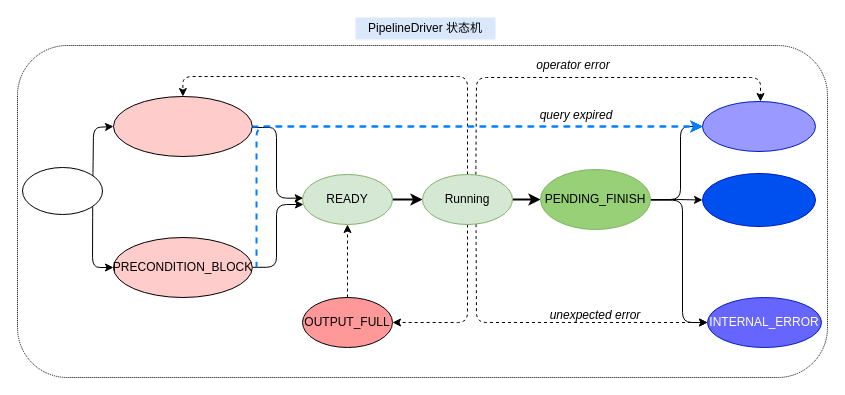
Some shapes in this 845 by 395 pixel diagram are drawn without their labels. Here are the shapes that lost their labels. From the top down, the box of each, then its label:
(112, 96, 252, 156): INPUT_EMPTY
(702, 100, 816, 152): CANCELED
(22, 166, 102, 214): NOT_READY
(702, 172, 816, 226): FINISH
